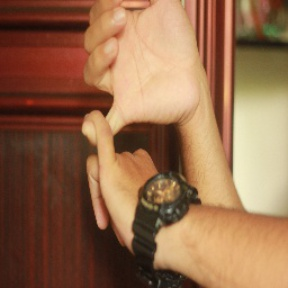S: (74, 2, 200, 253)
